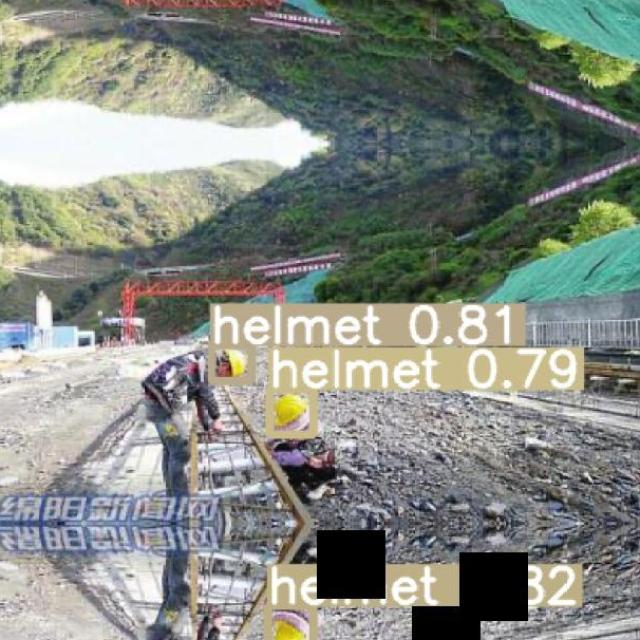helmet: (272, 393, 310, 432), (216, 348, 246, 376)
